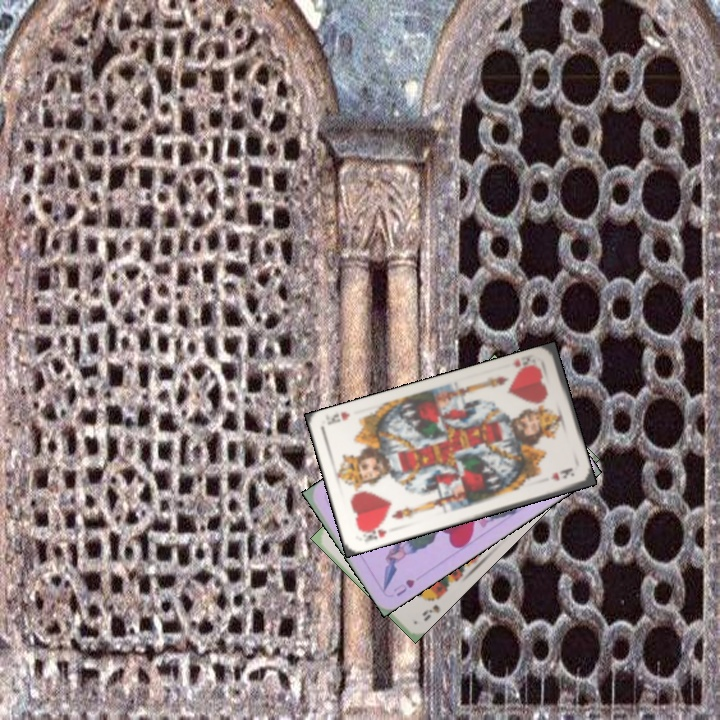HK: (508, 353, 542, 376), (358, 522, 389, 545)
HU: (389, 575, 417, 599)
S9: (418, 591, 445, 624)
